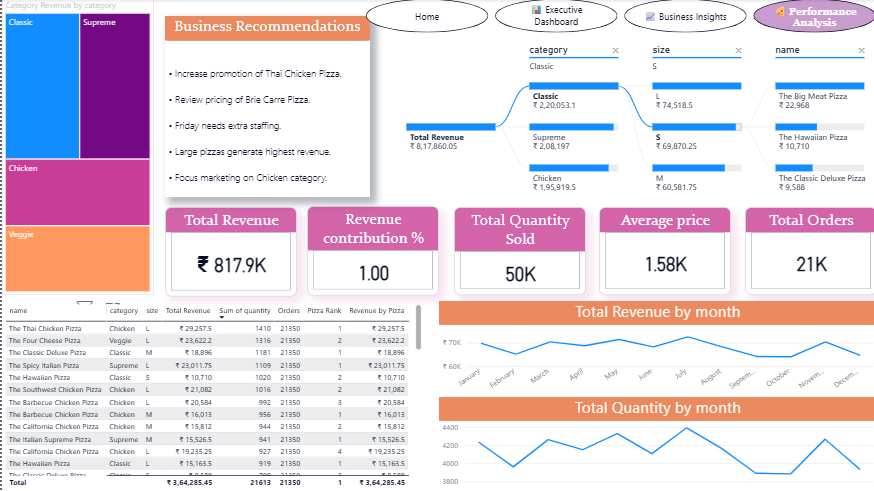

This screenshot's page, from the dashboard's own definition file:
{"tool":"powerbi","page":{"name":"🍕 Performance Analysis","canvas":[1280,720],"ordinal":3},"visuals":[{"type":"cardVisual","title":"Total Orders","fields":{"Data":["orders.Total Orders"]},"box":[1086.8,304,193.2,129.3],"z":0},{"type":"cardVisual","title":"Total Quantity Sold","fields":{"Data":["orders_details.Total Quantity"]},"box":[661.8,304,193.2,129.3],"z":1000},{"type":"cardVisual","title":"Total Revenue","fields":{"Data":["Table.Total Revenue"]},"box":[238.5,304,193.2,131],"z":2000},{"type":"cardVisual","title":"Average price","fields":{"Data":["Sum(pizzas.price)"]},"box":[873.5,304,193.2,129.3],"z":3000},{"type":"cardVisual","title":"Revenue  contribution %","fields":{"Data":["pizza_types.Revenue Contribution %"]},"box":[446.8,302.4,193.2,131],"z":4000},{"type":"decompositionTreeVisual","fields":{"Analyze":["Table.Total Revenue"],"ExplainBy":["pizza_types.category","pizzas.size","pizza_types.name"]},"box":[566.1,50.4,713.9,240.2],"z":5000},{"type":"treemap","fields":{"Group":["pizza_types.category"],"Values":["pizza_types.Category Revenue"]},"box":[0,0,221.7,433.4],"z":6000},{"type":"lineChart","fields":{"Y":["Table.Total Revenue"],"Category":["orders.month"]},"box":[639.5,442,641,140.5],"z":7000},{"type":"lineChart","fields":{"Category":["orders.month"],"Y":["orders_details.Total Quantity"]},"box":[639.5,582.4,641,137.6],"z":8000},{"type":"tableEx","fields":{"Values":["pizza_types.name","pizza_types.category","pizzas.size","Table.Total Revenue","Sum(orders_details.quantity)","orders.Orders","Table.Pizza Rank","Table.Revenue by Pizza"]},"box":[0,442,619,278],"z":9000},{"type":"textbox","title":"Business Recommendations","box":[238.5,24.9,300,264.9],"z":10000},{"type":"pageNavigator","box":[532.7,0,747.8,49.8],"z":11001}]}

Visuals, with their boxes in screenshot pixels (x1, y1, x2, y2), scaled from the page's 1280x720 canvas onto the 874x491 screenshot:
"Total Orders" cardVisual: {"left": 742, "top": 207, "right": 873, "bottom": 295}
"Total Quantity Sold" cardVisual: {"left": 452, "top": 207, "right": 584, "bottom": 295}
"Total Revenue" cardVisual: {"left": 163, "top": 207, "right": 295, "bottom": 297}
"Average price" cardVisual: {"left": 596, "top": 207, "right": 728, "bottom": 295}
"Revenue  contribution %" cardVisual: {"left": 305, "top": 206, "right": 437, "bottom": 296}
decompositionTreeVisual - Table.Total Revenue x pizza_types.category: {"left": 387, "top": 34, "right": 873, "bottom": 198}
treemap - pizza_types.category x pizza_types.Category Revenue: {"left": 0, "top": 0, "right": 151, "bottom": 296}
lineChart - Table.Total Revenue x orders.month: {"left": 437, "top": 301, "right": 873, "bottom": 397}
lineChart - orders.month x orders_details.Total Quantity: {"left": 437, "top": 397, "right": 873, "bottom": 490}
tableEx - pizza_types.name x pizza_types.category: {"left": 0, "top": 301, "right": 423, "bottom": 490}
"Business Recommendations" textbox: {"left": 163, "top": 17, "right": 368, "bottom": 198}
pageNavigator: {"left": 364, "top": 0, "right": 873, "bottom": 34}
